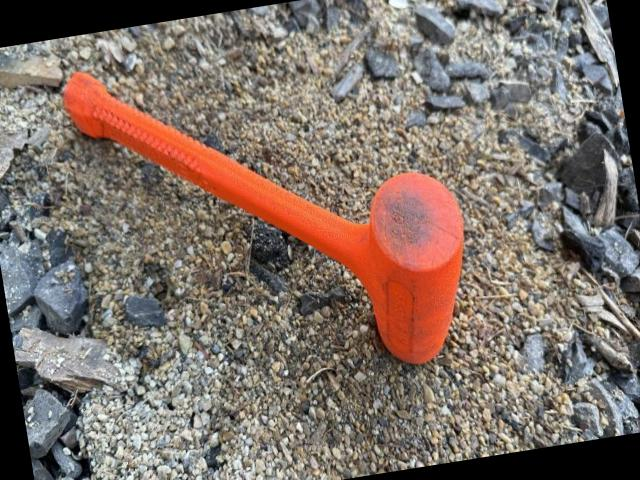hammer: (57, 11, 486, 414)
